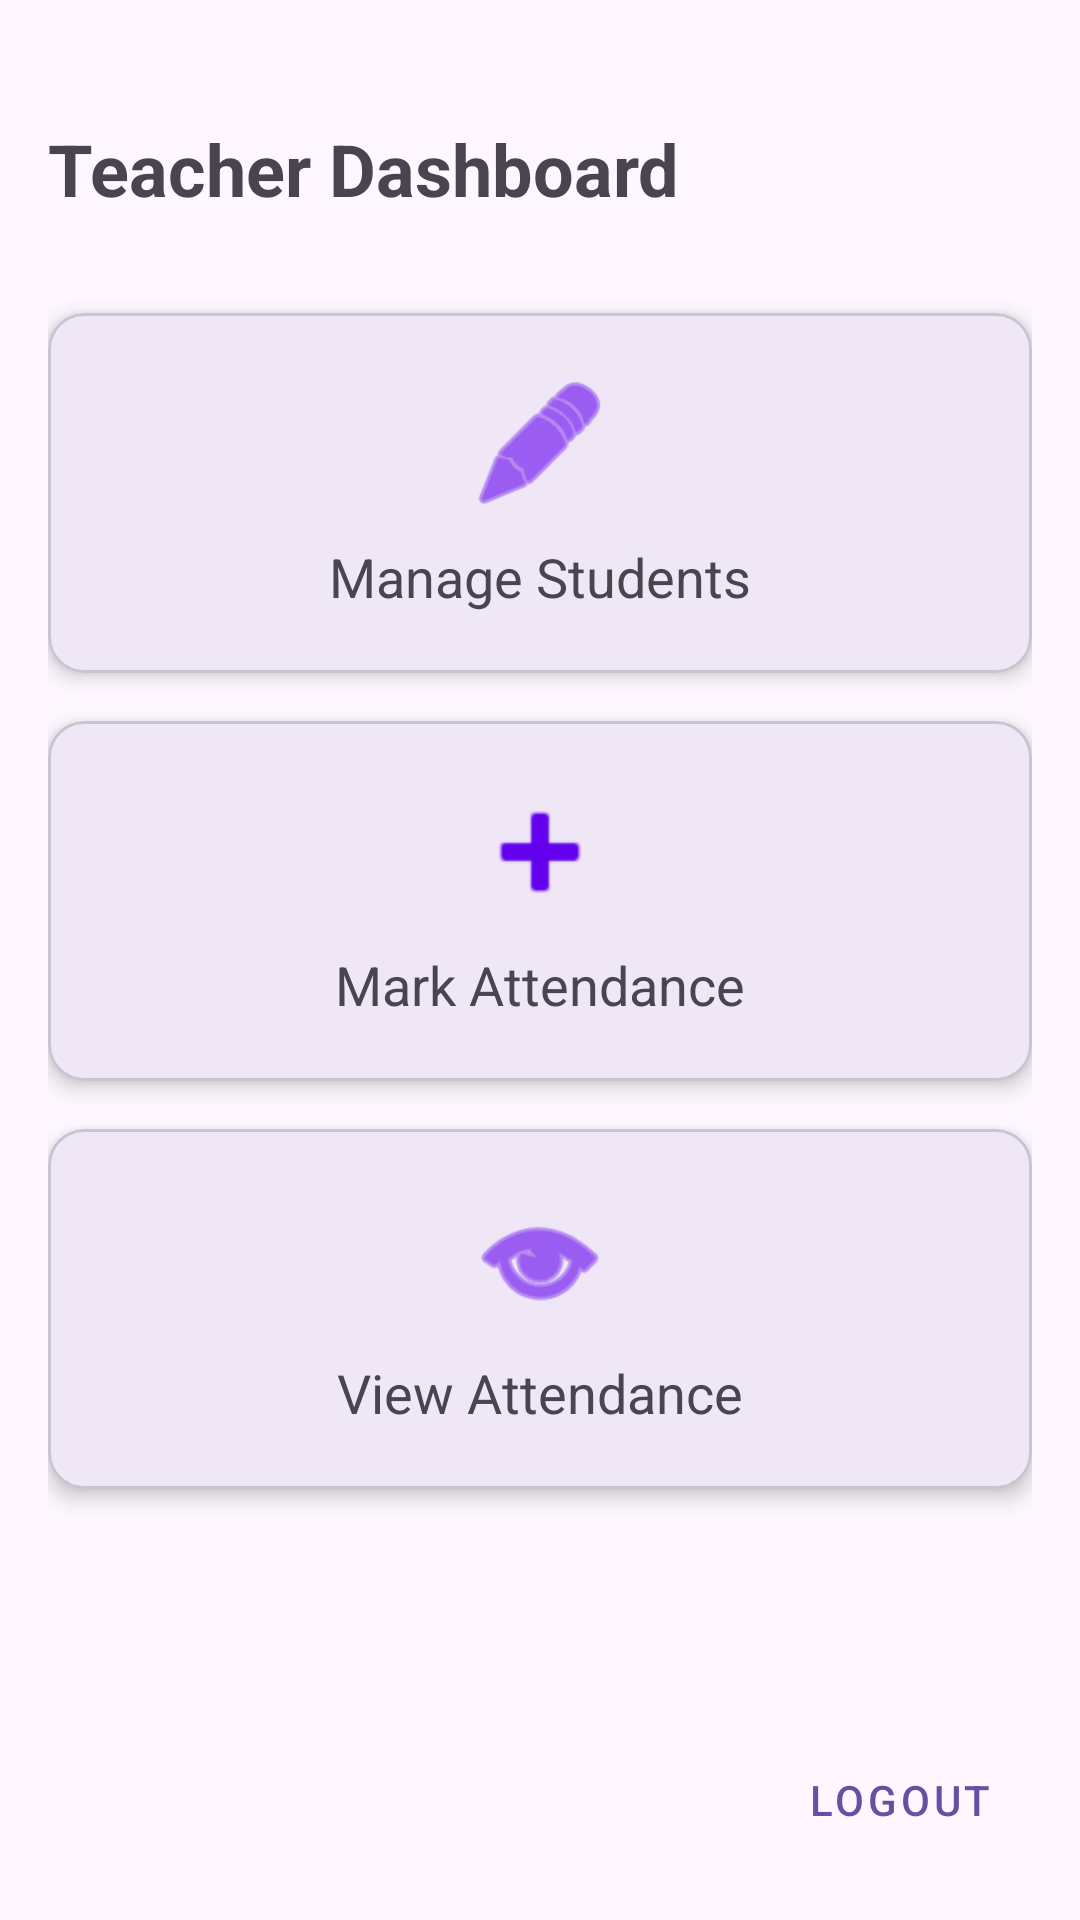

Point at icon controls on the screen. Image size 1080x1920, points as (x=x, y=y).
add: (x=540, y=852)
edit: (x=539, y=443)
